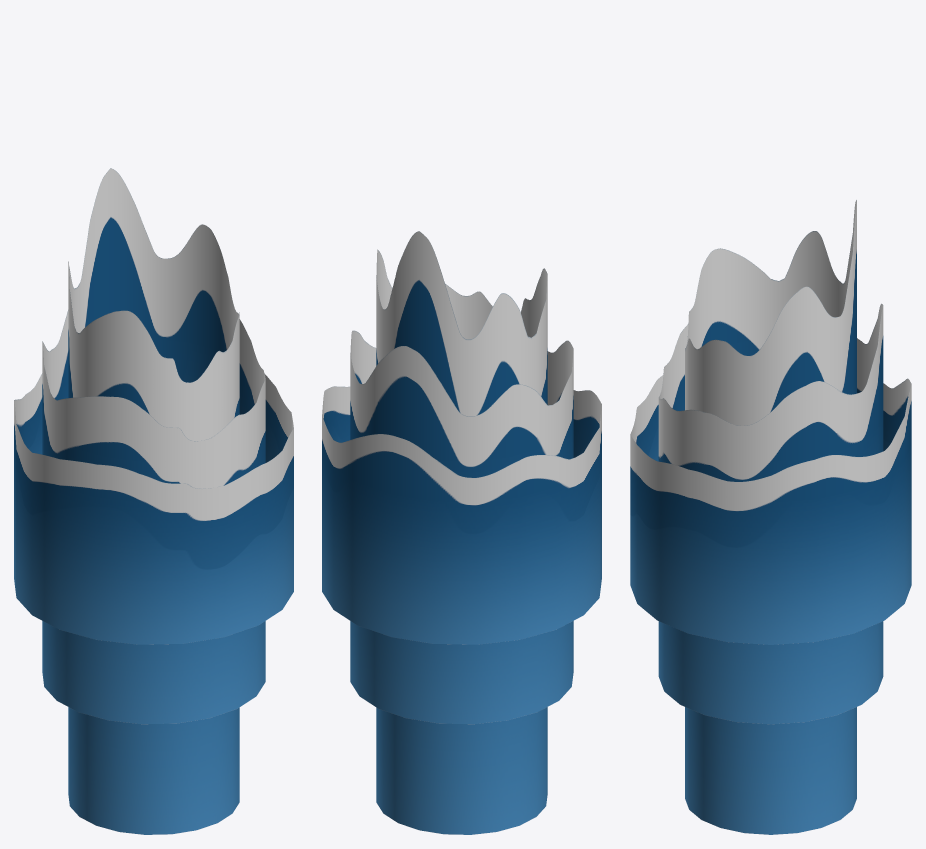
Rendered from SM_Splash.FBX.
3 views of the same model, side by side, from view 1: azimuth 30°, elevation 25°; view 2: azimuth 150°, elevation 25°; view 3: azimuth 270°, elevation 25° (orthographic).
Parts seen in each view (by area): view 1: Cylinder003, Cylinder001, Cylinder002; view 2: Cylinder001, Cylinder003, Cylinder002; view 3: Cylinder001, Cylinder003, Cylinder002.
Boxes of the visible parts, x1,y1,x2,y2 form: Cylinder003: (68, 168, 239, 834); Cylinder001: (14, 373, 293, 644); Cylinder002: (42, 283, 265, 724); Cylinder001: (322, 386, 601, 644); Cylinder003: (376, 231, 547, 834); Cylinder002: (350, 330, 573, 724); Cylinder001: (630, 375, 911, 644); Cylinder003: (685, 200, 856, 834); Cylinder002: (658, 303, 883, 724).
Size of the model in its own units: 15.75 by 46.25 by 15.75.
1 material, 1 textured.
